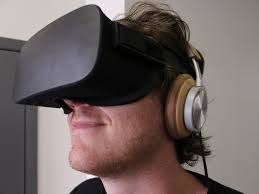oculus: (14, 3, 168, 111)
